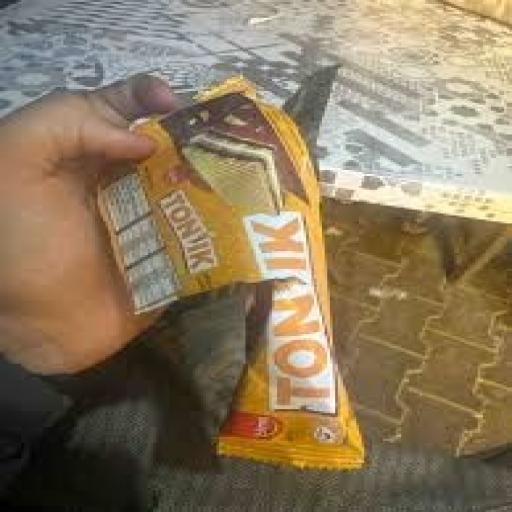tonik: (46, 62, 432, 466)
